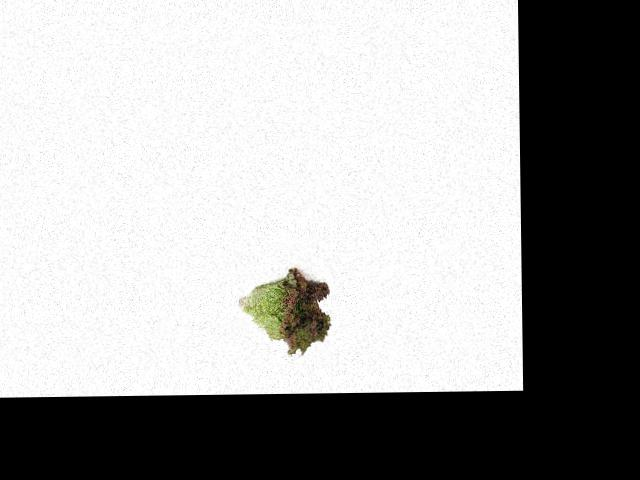lettuce: (236, 259, 343, 360)
